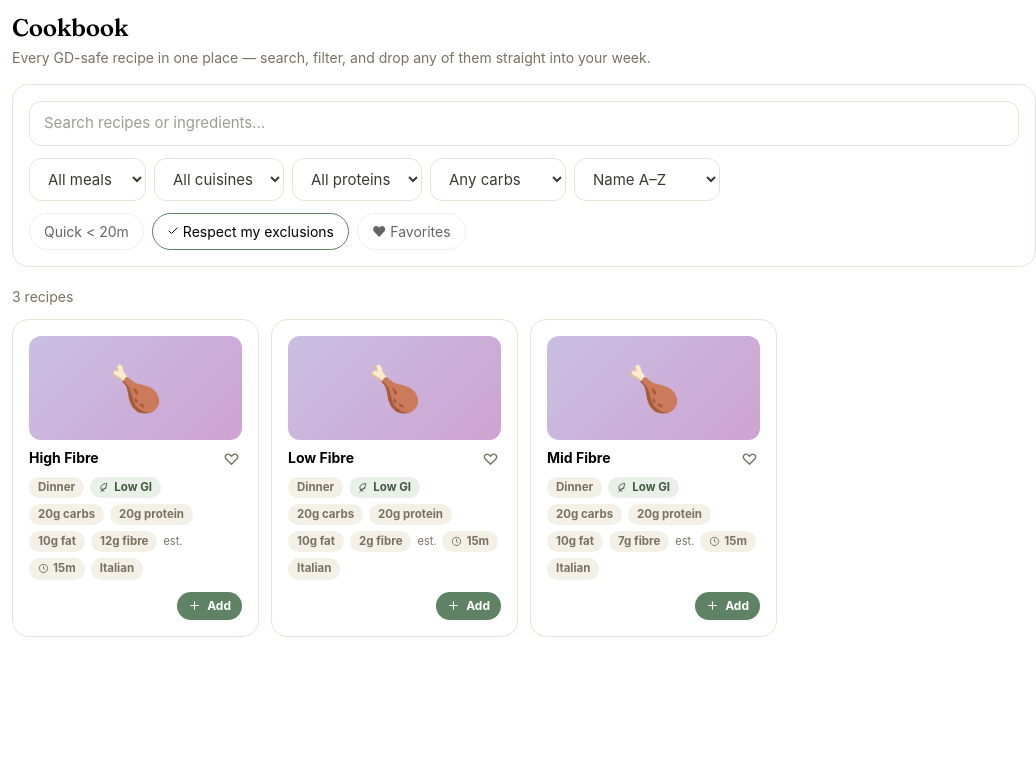
Scenario: CookbookTab › sorts by most fibre
Select "Most fibre" in the dropdown named "Sort recipes": (647, 179) top-left (574, 158), bottom-right (720, 200)
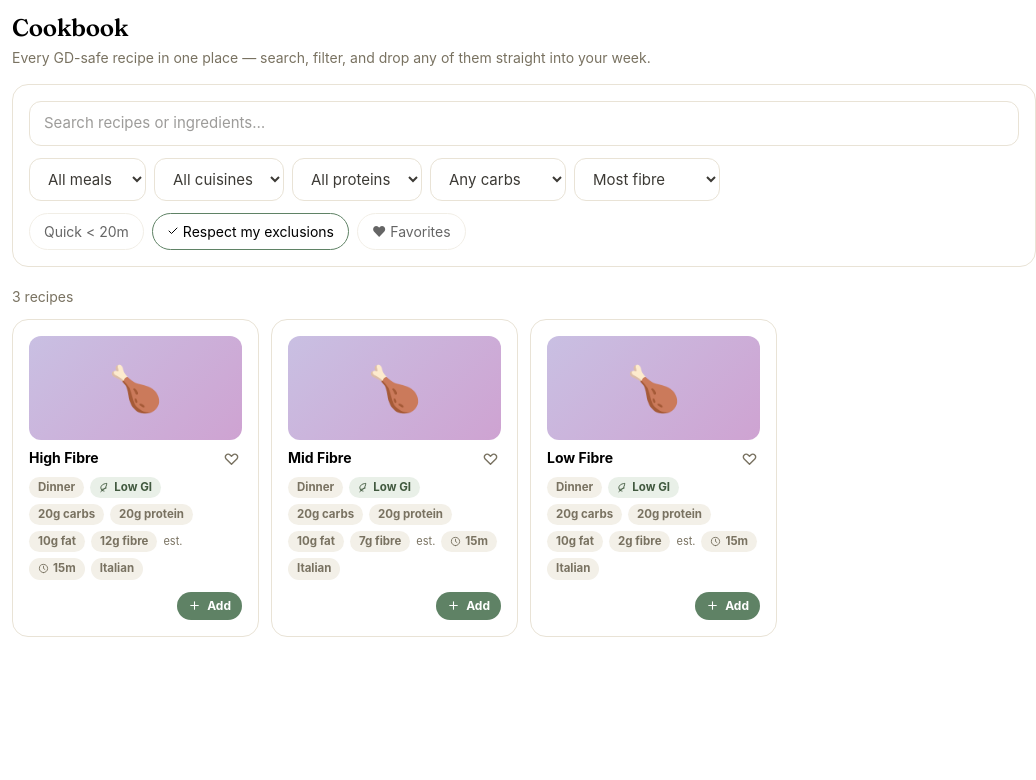
Result: the elements "Fibre" read "High Fibre", "Mid Fibre", "Low Fibre", in this order at top-left (29, 448), bottom-right (99, 467); top-left (288, 448), bottom-right (352, 467); top-left (547, 448), bottom-right (613, 467)
